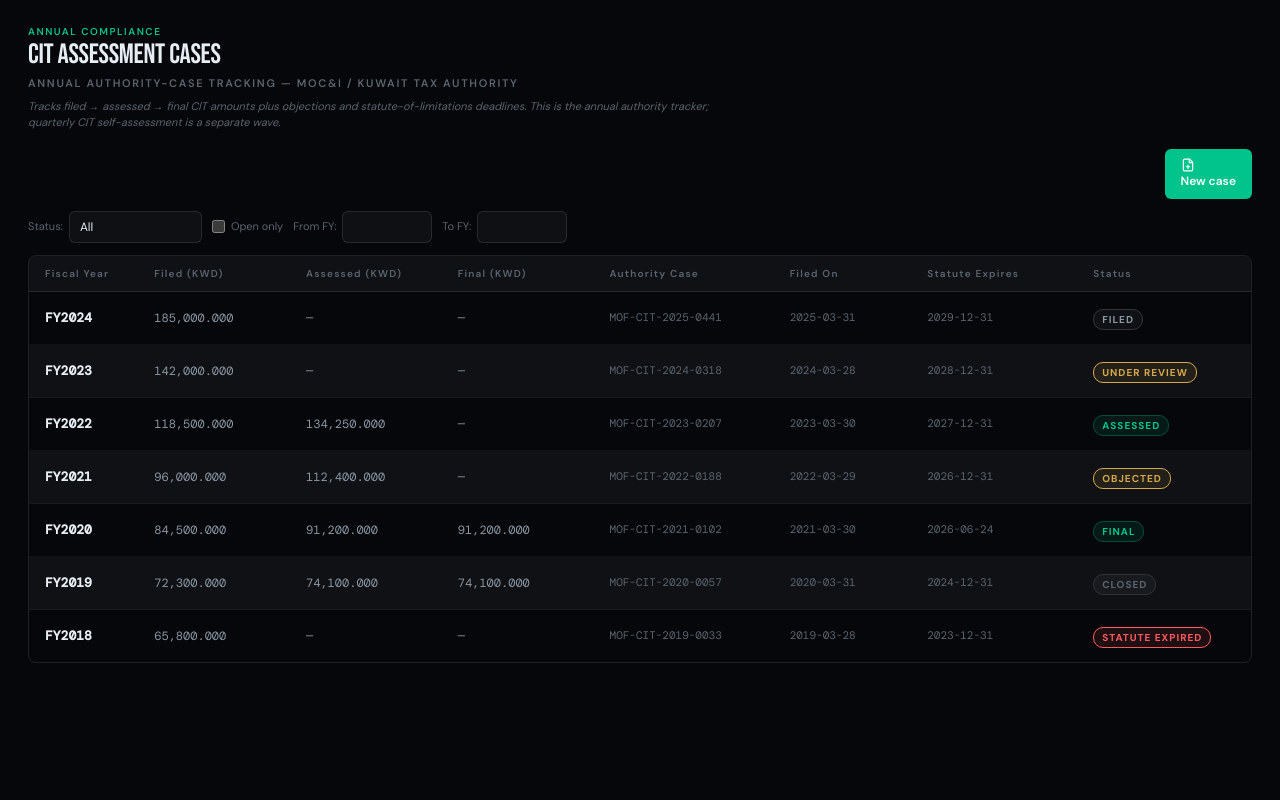
CITAssessmentScreen — per-case detail › OBJECTED: shows Finalize only (no Record Objection twice)
The width and height of the screenshot is (1280, 800).
Click the button with aria-label "Open case".
click(640, 477)  # box [29, 450, 1251, 504]
(page scrolled)
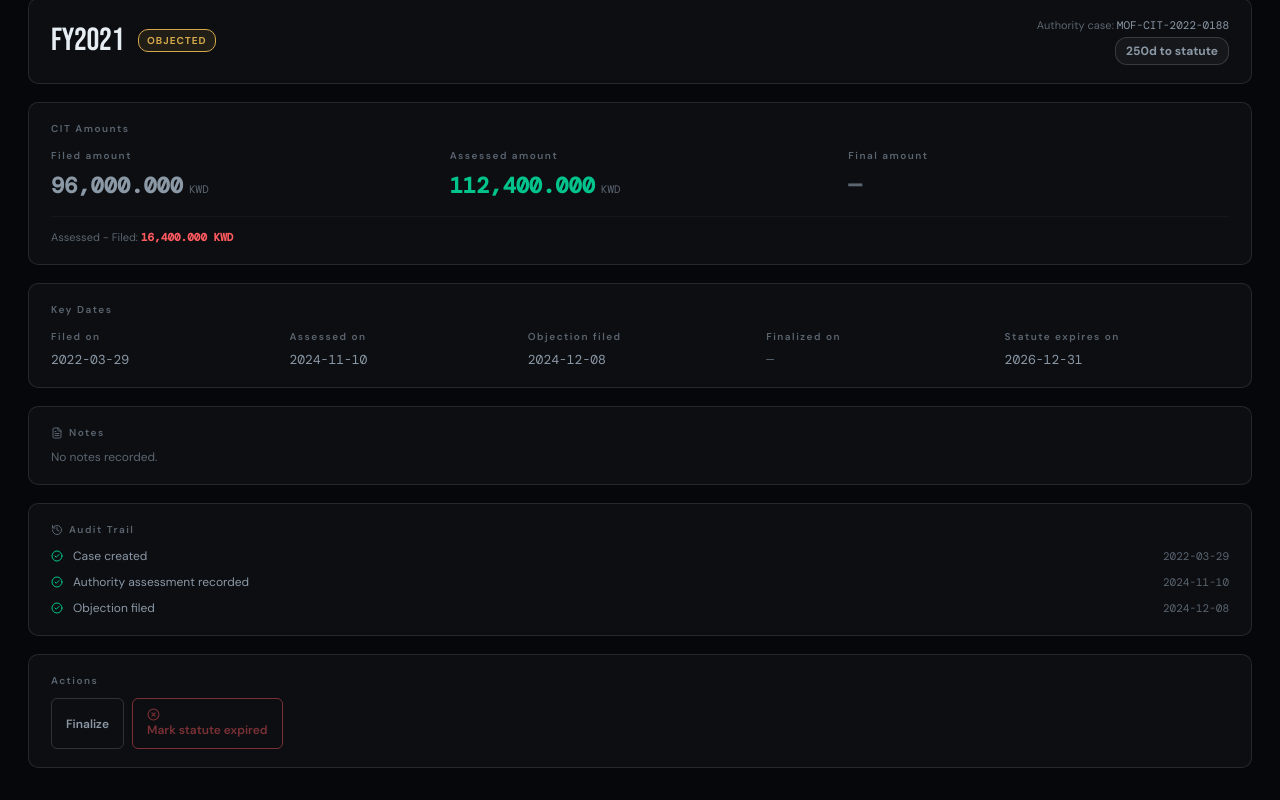
Now the element with test id "cit-detail-view" is shown
Now the button with test id "cit-action-finalize" is shown, box [51, 698, 124, 749]
